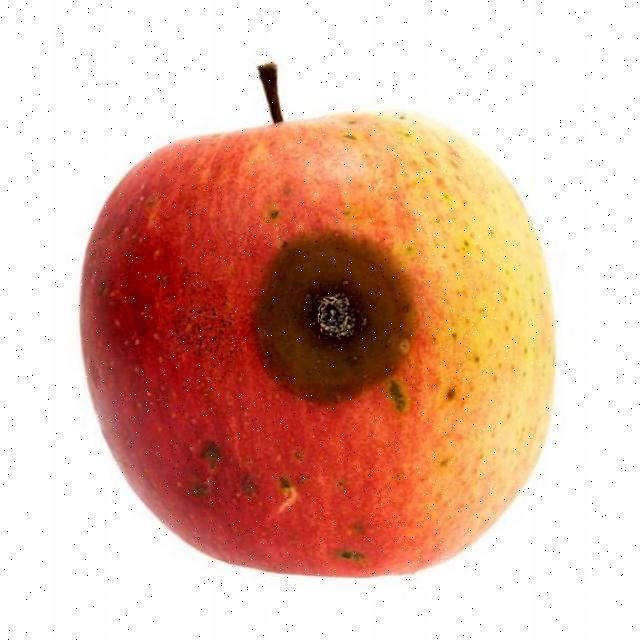ROT: (70, 78, 568, 594)
